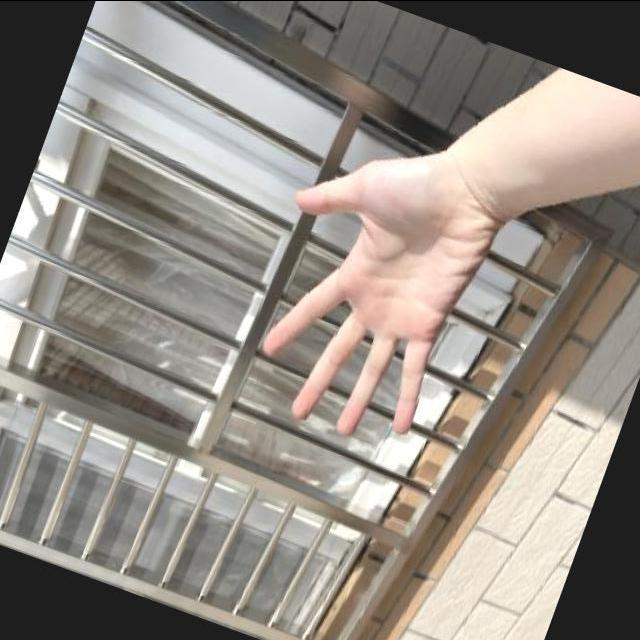hand: (208, 94, 538, 484)
